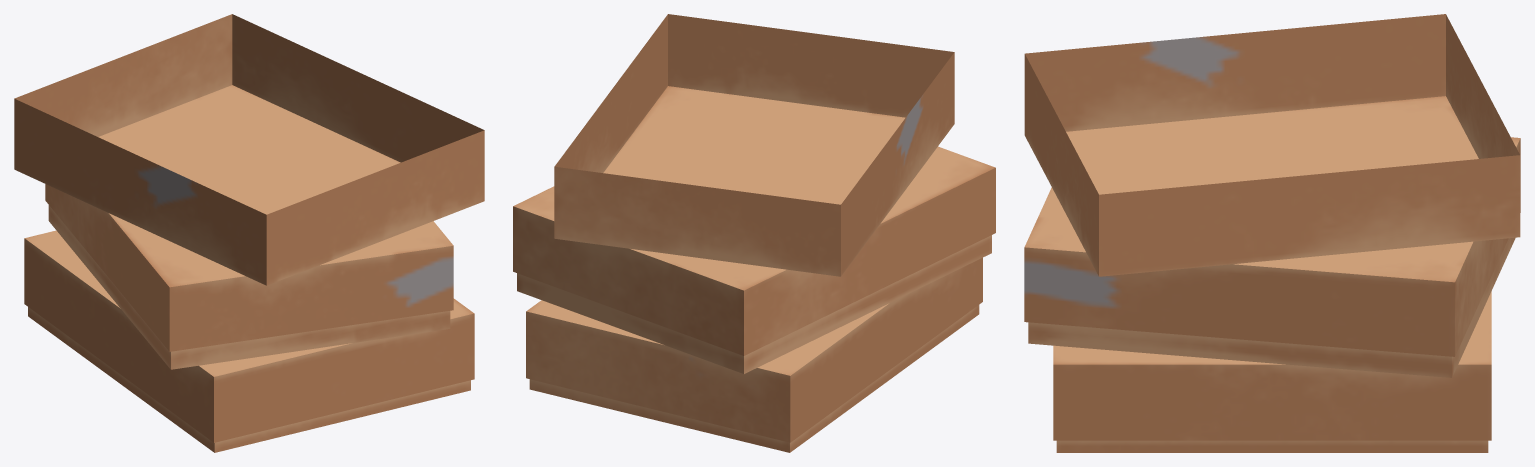
File: box_bottom_3.fbx
3 renders of one model, left to right at view 1: azimuth 30°, elevation 25°; view 2: azimuth 150°, elevation 25°; view 3: azimuth 270°, elevation 25°, orthographic. The views are drawn at different scales.
Visible parts, largest first — view 1: box_3_bottom.001; view 2: box_3_bottom.001; view 3: box_3_bottom.001.
Boxes of the visible parts, bbox=[...] form: box_3_bottom.001: bbox=[14, 14, 484, 452]; box_3_bottom.001: bbox=[513, 14, 995, 452]; box_3_bottom.001: bbox=[1024, 14, 1520, 452].
Size of the model in its own units: 61.75 by 44.02 by 71.64.
